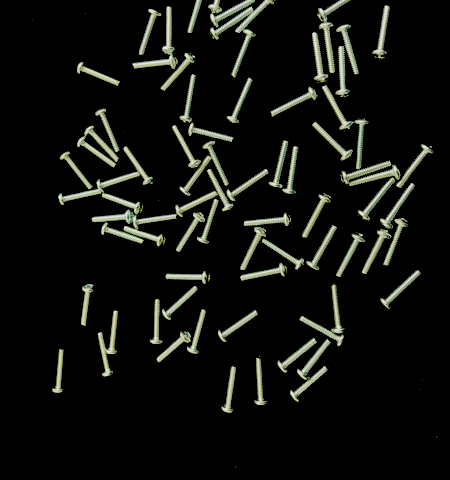longscrew: (378, 267, 426, 313), (396, 142, 436, 190), (379, 182, 419, 229), (311, 120, 354, 163), (356, 177, 397, 222), (289, 364, 334, 404), (333, 231, 368, 280), (307, 223, 341, 273), (361, 226, 395, 276), (299, 313, 347, 348), (381, 217, 413, 269), (226, 167, 272, 203), (159, 52, 199, 93), (277, 337, 320, 375), (296, 338, 334, 381), (208, 6, 256, 40), (269, 86, 320, 118), (217, 307, 262, 343), (322, 83, 355, 132), (122, 143, 157, 189), (301, 193, 335, 240), (260, 236, 306, 270), (235, 0, 278, 36), (178, 153, 214, 196), (201, 139, 233, 187), (238, 225, 270, 273), (59, 148, 94, 191), (174, 211, 207, 256), (336, 23, 364, 76), (84, 124, 121, 164), (161, 285, 201, 322), (231, 29, 260, 80), (170, 123, 202, 169), (340, 158, 394, 185), (227, 76, 256, 126), (76, 135, 118, 169), (209, 0, 258, 29), (205, 167, 235, 213), (94, 107, 124, 153), (75, 60, 122, 89), (175, 190, 222, 219), (371, 3, 394, 61), (99, 188, 145, 217), (156, 329, 194, 364), (137, 7, 163, 57), (195, 196, 221, 246), (268, 139, 292, 189), (317, 0, 369, 23), (350, 165, 403, 187), (121, 223, 167, 248), (352, 115, 372, 172), (186, 307, 209, 356), (100, 222, 145, 247), (238, 261, 289, 283), (309, 31, 330, 84), (318, 20, 338, 75), (282, 143, 302, 198), (329, 282, 349, 337), (186, 121, 235, 143), (96, 169, 142, 192), (96, 331, 118, 379), (335, 44, 354, 99), (179, 73, 199, 125), (50, 345, 70, 396), (220, 364, 240, 414), (160, 3, 178, 58), (241, 212, 295, 230), (77, 282, 97, 330), (186, 0, 212, 36), (253, 355, 270, 408), (57, 187, 104, 206), (130, 211, 179, 229), (132, 53, 180, 71), (165, 269, 214, 286), (105, 307, 122, 355), (91, 209, 136, 227), (148, 297, 164, 347), (207, 0, 233, 13)
